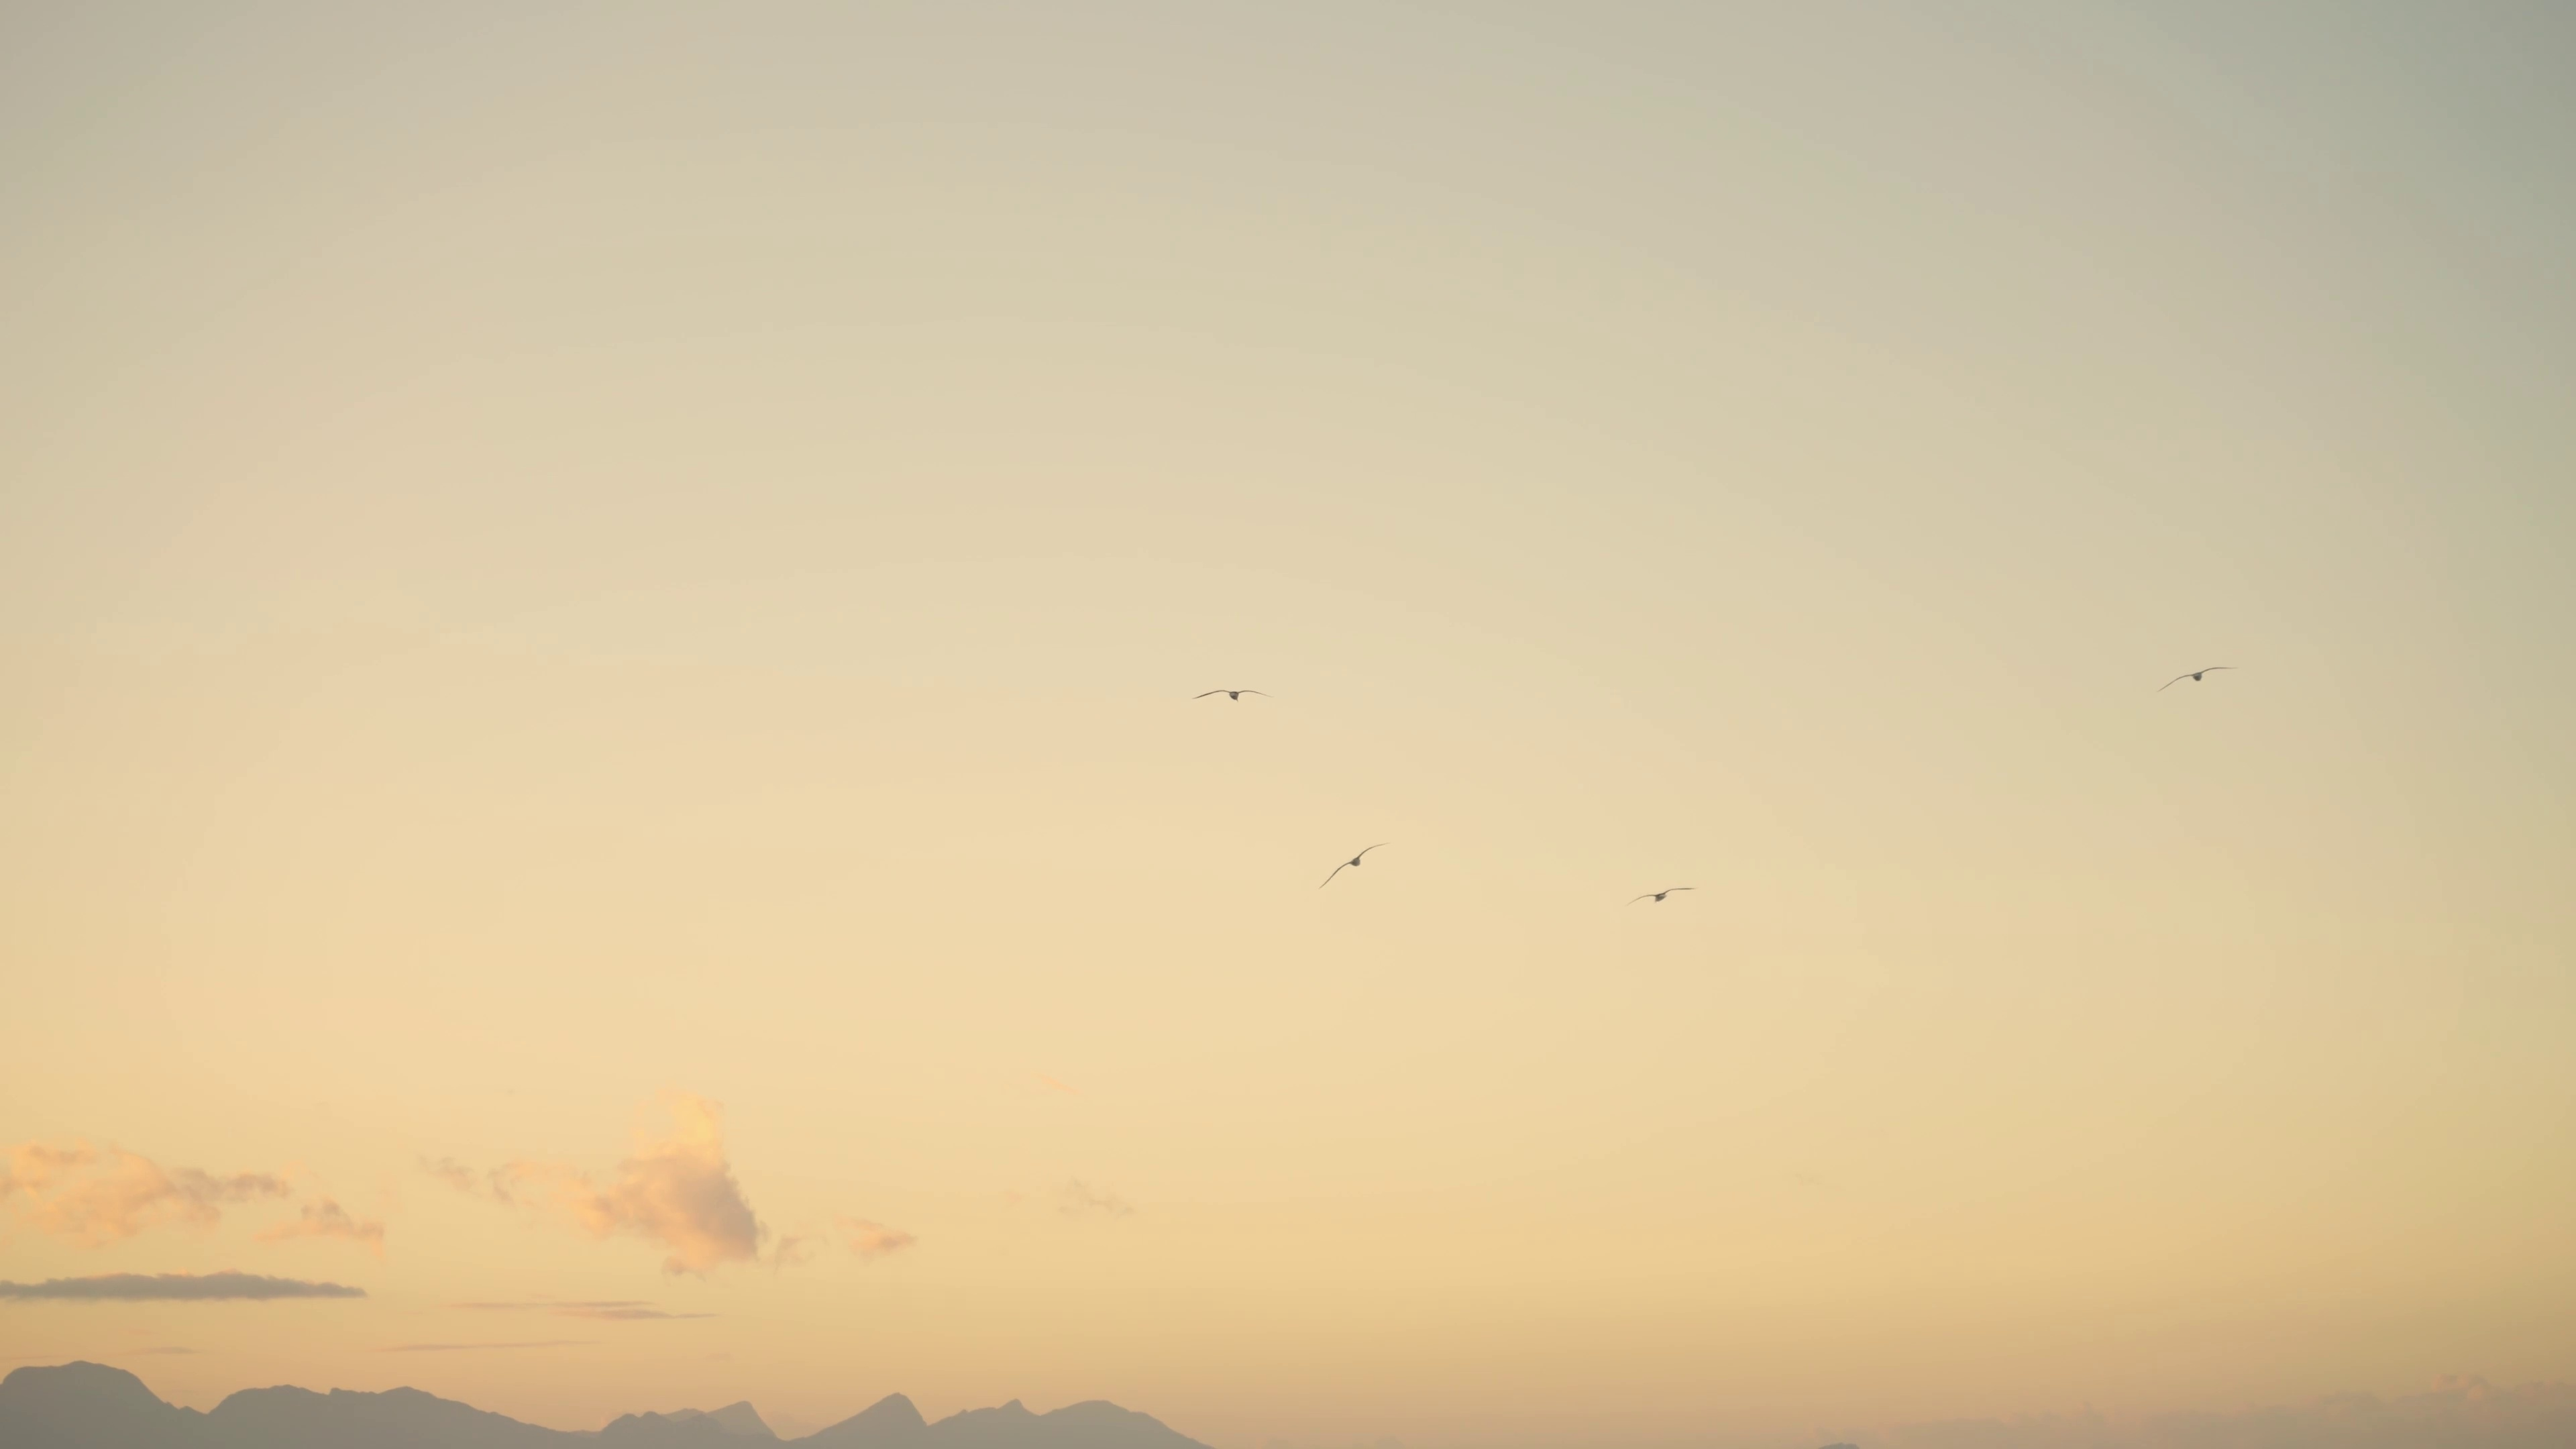bird: (1322, 844, 1385, 890), (2157, 663, 2235, 694), (1192, 686, 1267, 702), (1629, 886, 1691, 904)
